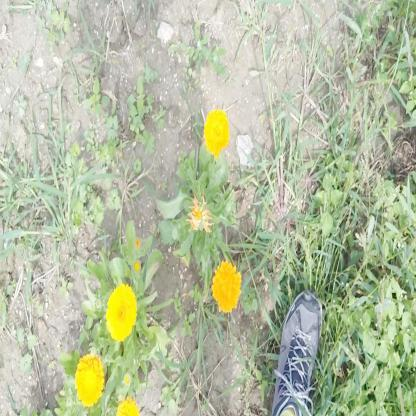marigold: (74, 352, 103, 405), (107, 289, 134, 342), (213, 264, 240, 311), (204, 108, 227, 156)
